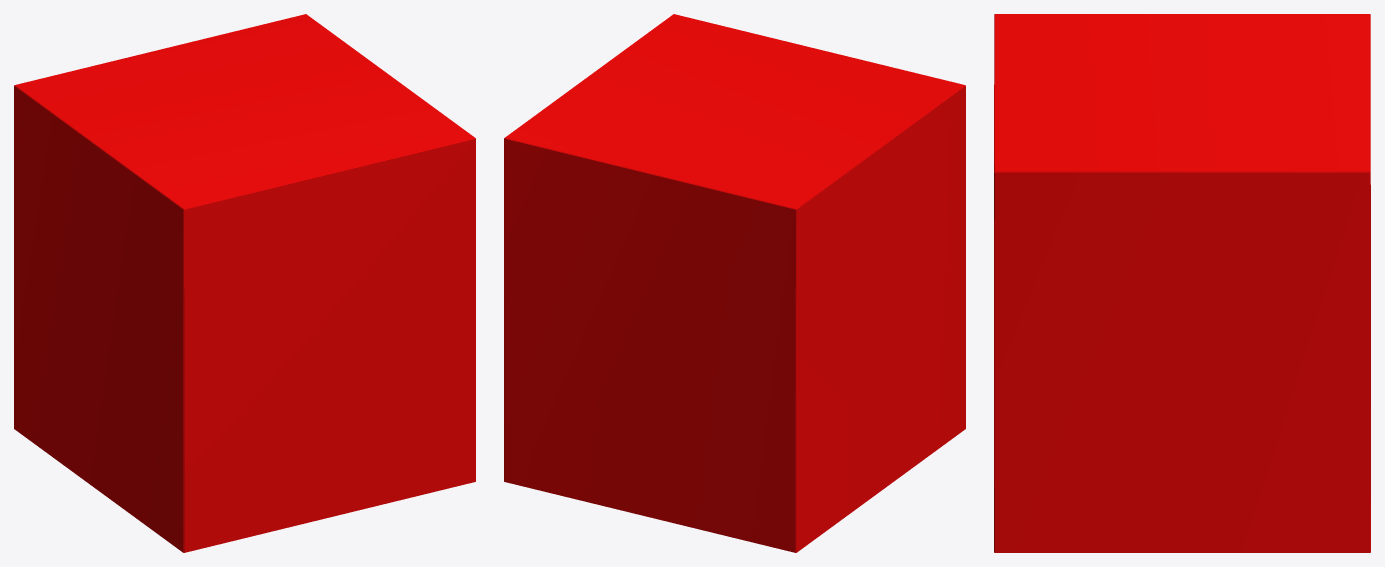
Rendered from Fp310_Ps_310_Shelf_2_PsDesk_310_2_2.obj.
The picture shows the model from 3 angles, left to right: view 1: azimuth 30°, elevation 25°; view 2: azimuth 150°, elevation 25°; view 3: azimuth 270°, elevation 25°; orthographic projection. The views are drawn at different scales.
Visible parts, largest first — view 1: PsDesk_310_2; view 2: PsDesk_310_2; view 3: PsDesk_310_2.
Part boxes in pixels (x1=…): PsDesk_310_2: x1=14, y1=14, x2=475, y2=552; PsDesk_310_2: x1=504, y1=14, x2=965, y2=552; PsDesk_310_2: x1=994, y1=14, x2=1370, y2=552.
Size of the model in its own units: 0.374 by 0.4198 by 0.3763.
